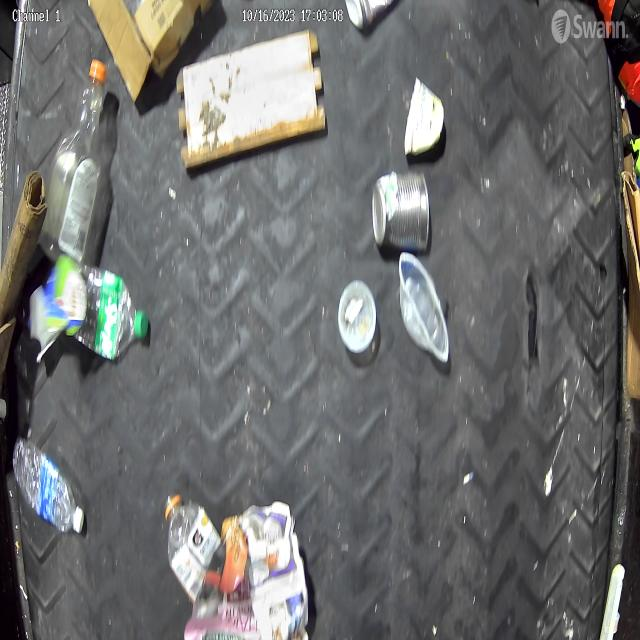plastic_bottle: (44, 51, 102, 254), (44, 257, 150, 358), (12, 432, 84, 534)
